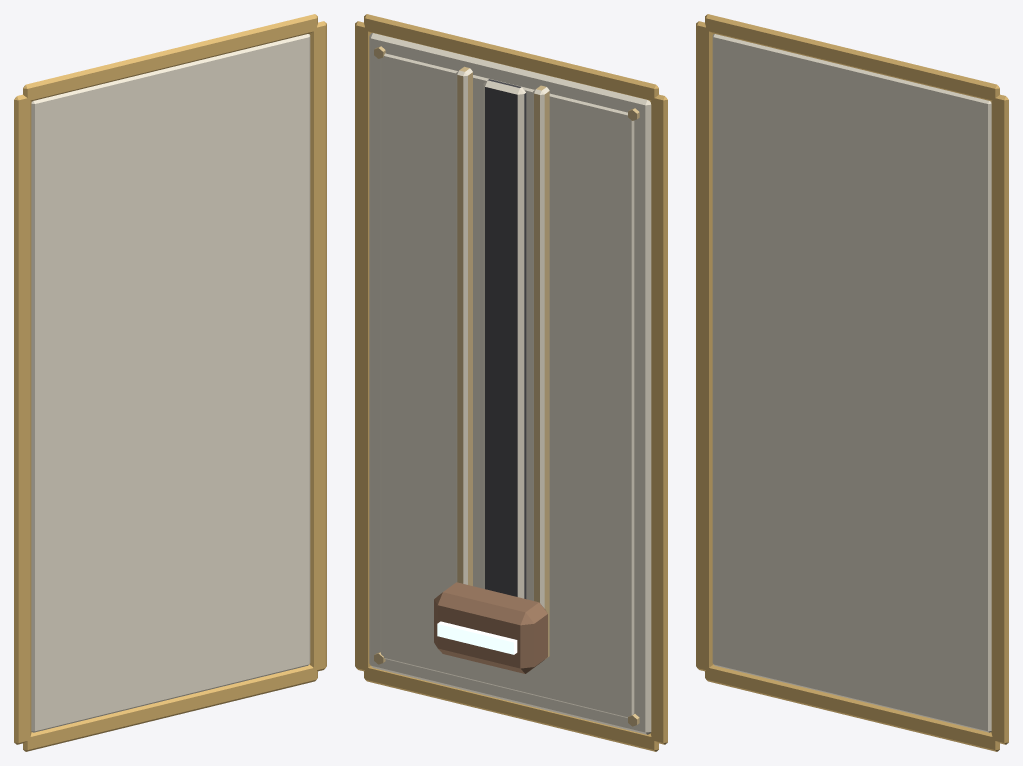
File: Ctl_Slider_1x2.fbx
3 renders of one model, left to right at view 1: azimuth 30°, elevation 25°; view 2: azimuth 150°, elevation 25°; view 3: azimuth 330°, elevation 25°, orthographic.
Parts seen in each view (by area): view 1: Ctl_Slider_1x2, Ctl_Slider_1x2_Frame; view 2: Ctl_Slider_1x2, Ctl_Slider_1x2_Frame, Moving.013; view 3: Ctl_Slider_1x2, Ctl_Slider_1x2_Frame.
Part boxes in pixels (bbox=[...]): Ctl_Slider_1x2: bbox=[31, 34, 310, 732]; Ctl_Slider_1x2_Frame: bbox=[14, 14, 326, 751]; Ctl_Slider_1x2: bbox=[369, 33, 651, 734]; Ctl_Slider_1x2_Frame: bbox=[355, 14, 667, 751]; Moving.013: bbox=[434, 582, 547, 673]; Ctl_Slider_1x2: bbox=[712, 34, 991, 732]; Ctl_Slider_1x2_Frame: bbox=[696, 14, 1008, 751].
Size of the model in its own units: 1.06 by 2.16 by 0.22.
